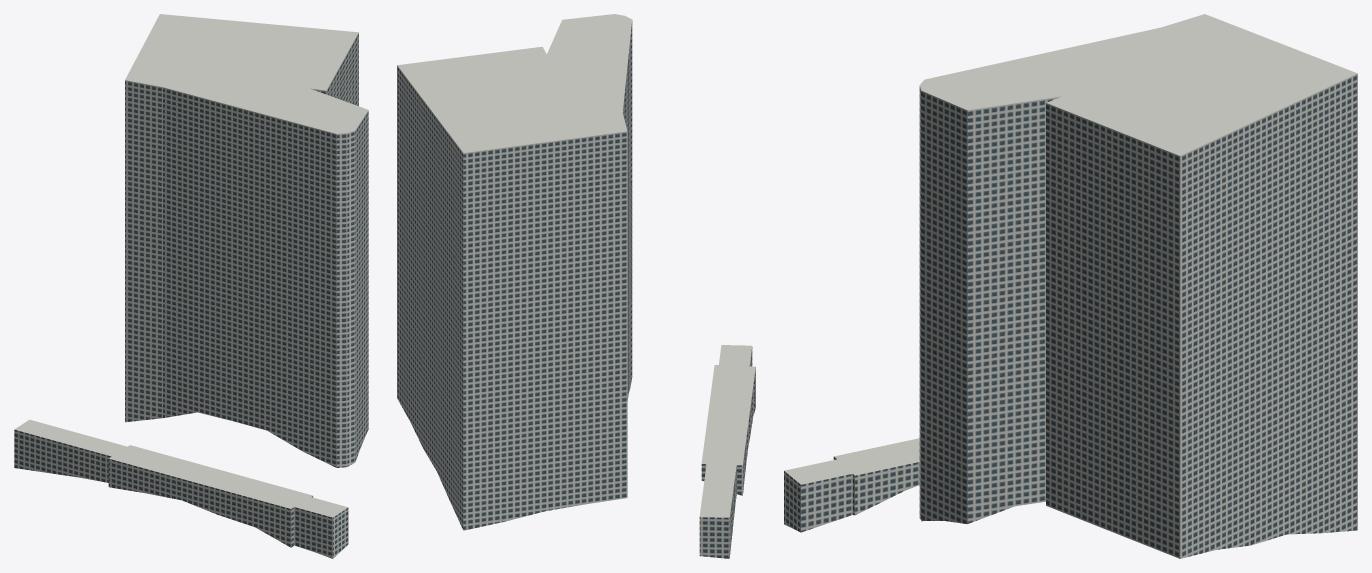
Rendered from city_7_1.glb.
The picture shows the model from 3 angles, left to right: view 1: azimuth 30°, elevation 25°; view 2: azimuth 150°, elevation 25°; view 3: azimuth 270°, elevation 25°; orthographic projection. The views are drawn at different scales.
Size of the model in its own units: 208 by 226 by 244.
Materials: 1 (1 with a texture image).
